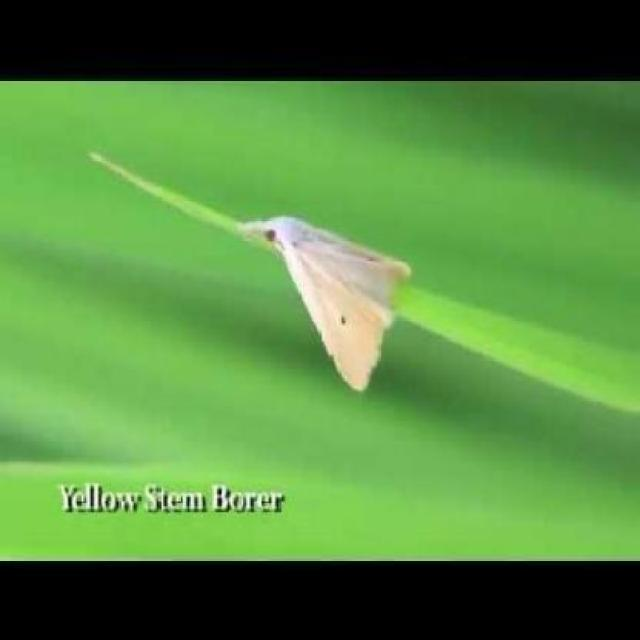stem-borer: (233, 208, 413, 395)
